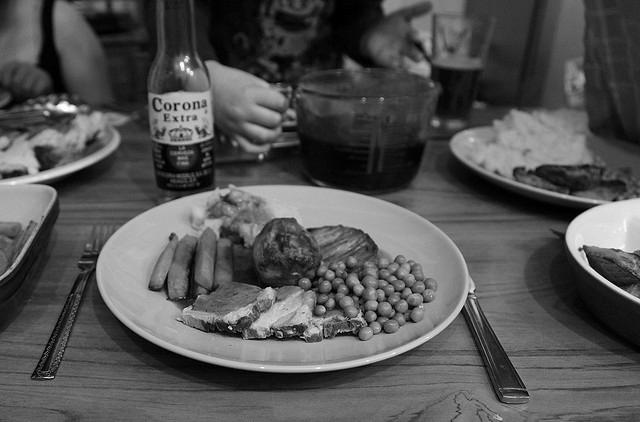bottle: (147, 0, 214, 189)
glass: (428, 14, 494, 120)
